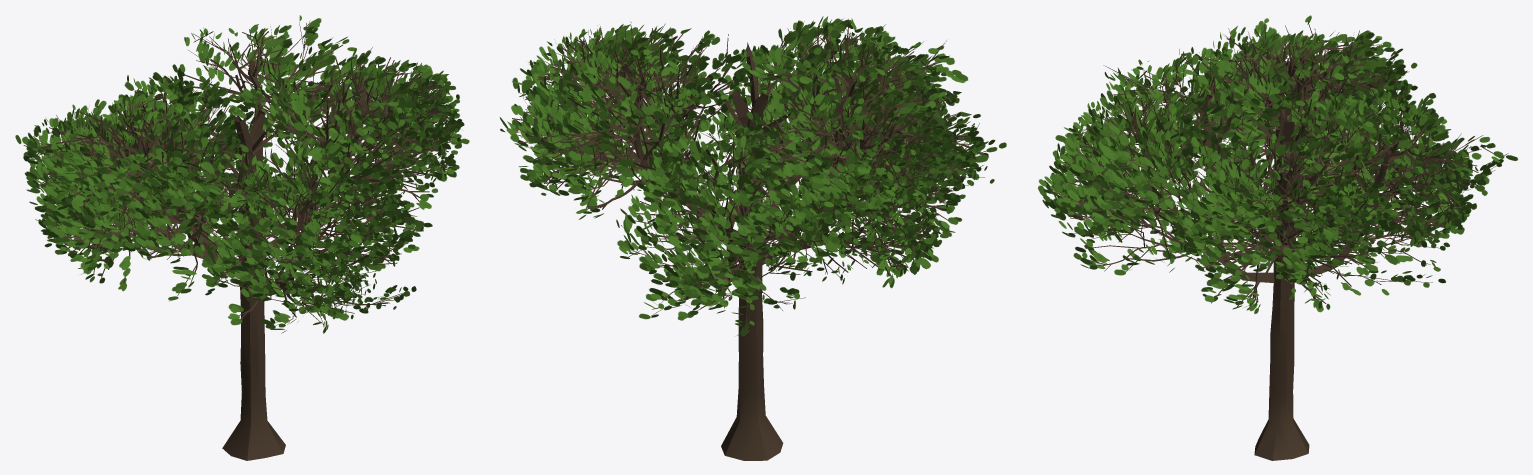
3 views of the same model, side by side, from view 1: azimuth 30°, elevation 25°; view 2: azimuth 150°, elevation 25°; view 3: azimuth 270°, elevation 25° (orthographic). The views are drawn at different scales.
Parts seen in each view (by area): view 1: oak 01.001_trunk_Mat.001_0.059; view 2: oak 01.001_trunk_Mat.001_0.059; view 3: oak 01.001_trunk_Mat.001_0.059.
Boxes of the visible parts, x1,y1,x2,y2 form: oak 01.001_trunk_Mat.001_0.059: (15,15,469,460); oak 01.001_trunk_Mat.001_0.059: (499,16,1006,460); oak 01.001_trunk_Mat.001_0.059: (1038,15,1517,460).
Size of the model in its own units: 5.09 by 4.03 by 4.98.
2 materials, 1 textured.
